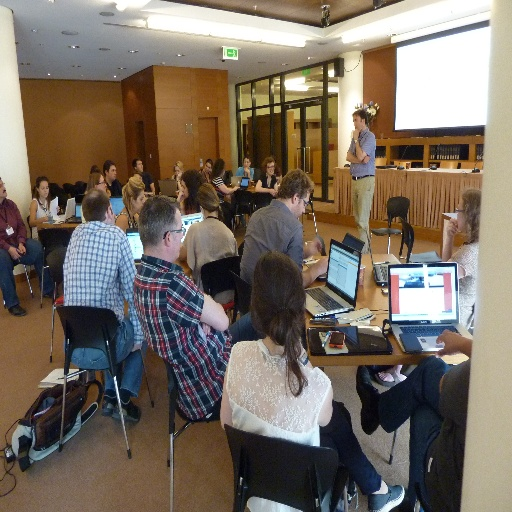hand: (432, 323, 474, 374), (305, 235, 321, 260), (444, 216, 460, 238), (314, 254, 328, 276), (9, 246, 20, 260), (294, 336, 302, 353), (200, 322, 211, 334), (351, 127, 362, 137), (362, 154, 371, 166), (18, 244, 26, 256), (269, 187, 277, 197), (175, 170, 183, 179), (177, 190, 184, 200), (54, 204, 60, 214), (42, 215, 49, 222), (233, 184, 241, 190), (243, 165, 250, 171)
